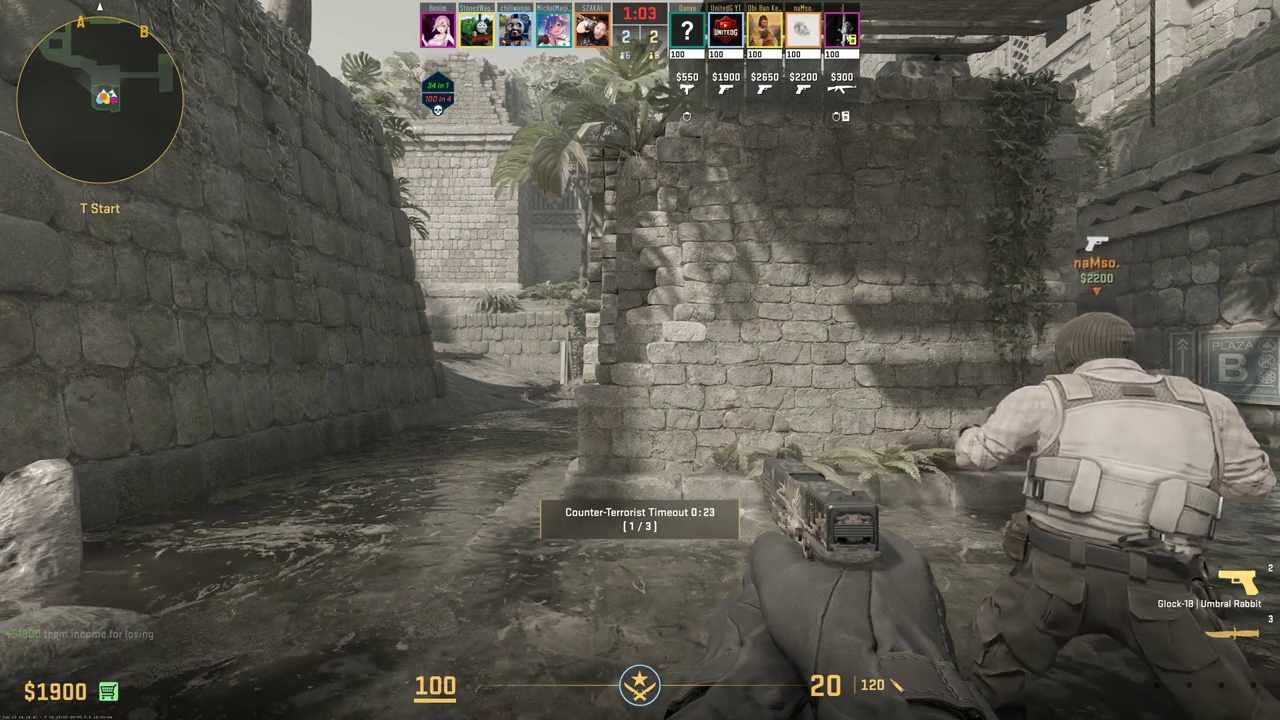Terrorist: (970, 312, 1258, 719)
